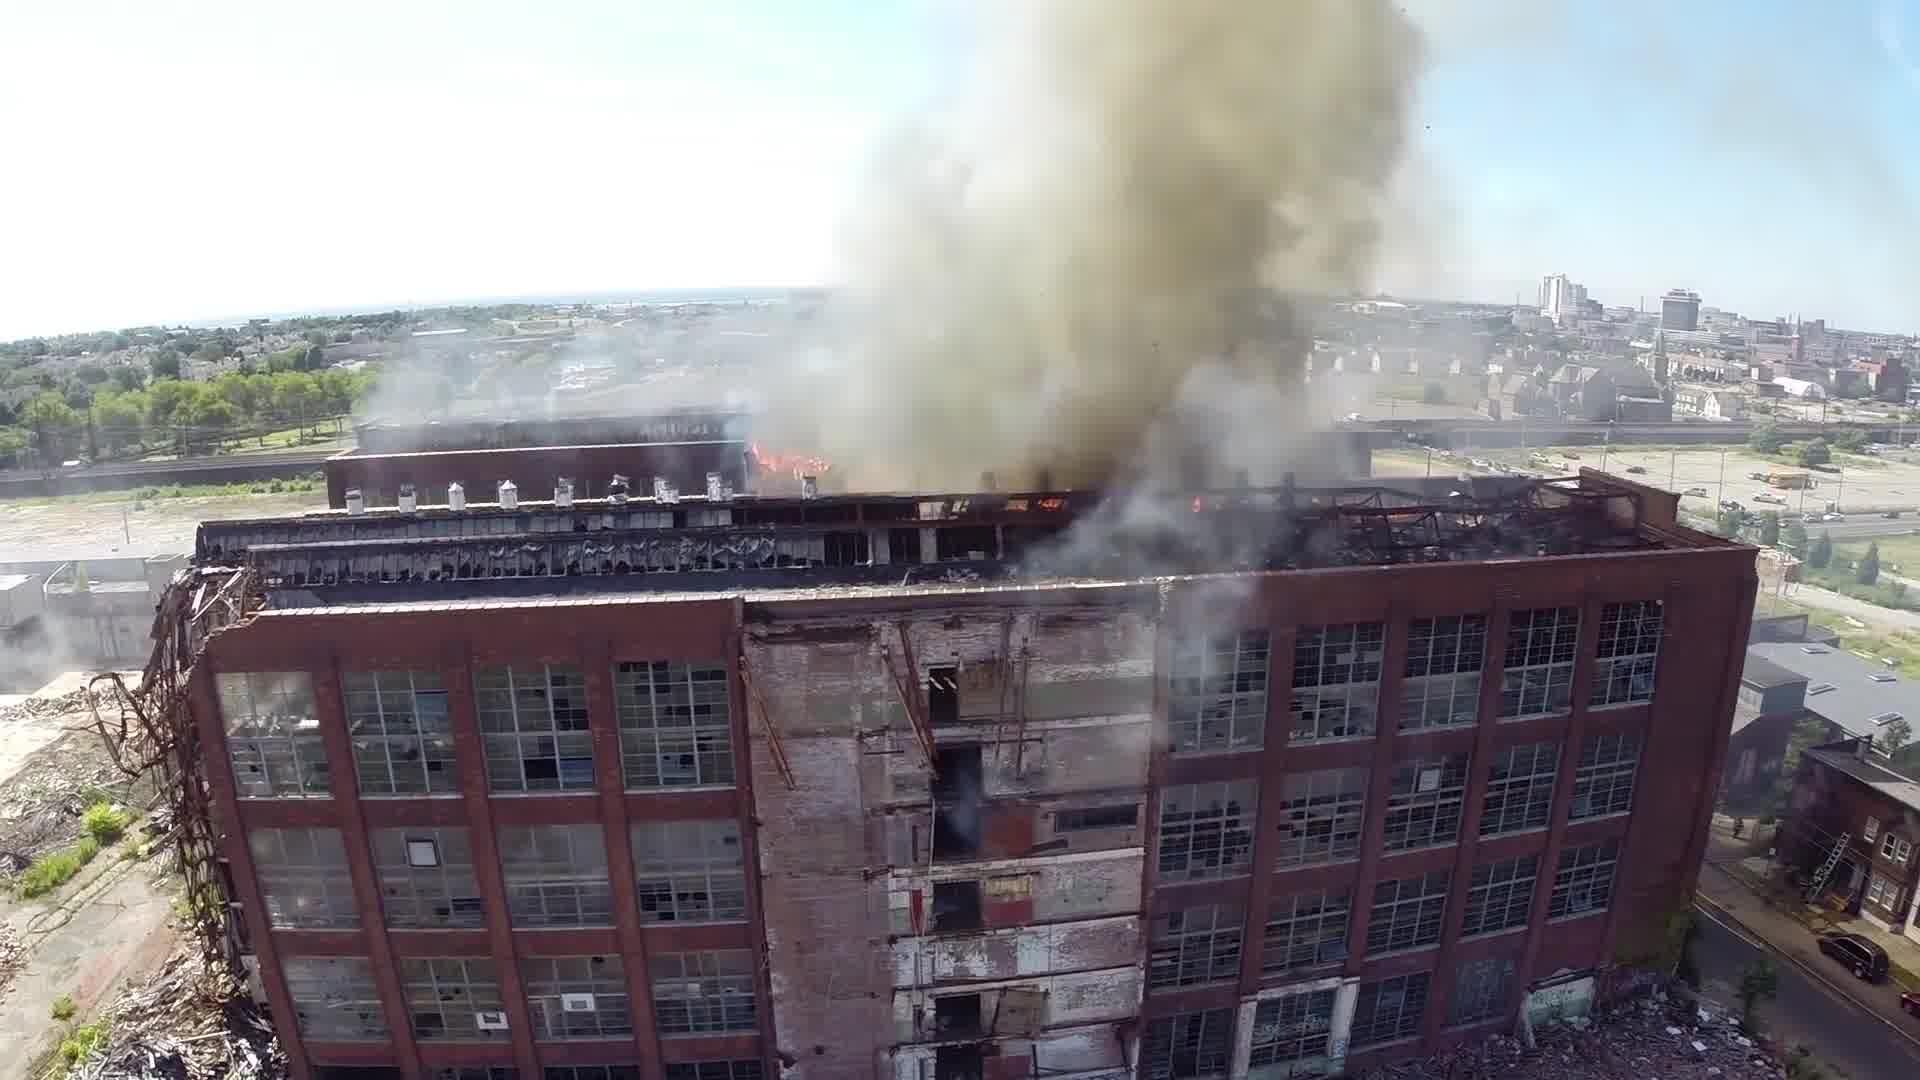smoke: (969, 11, 1393, 501)
